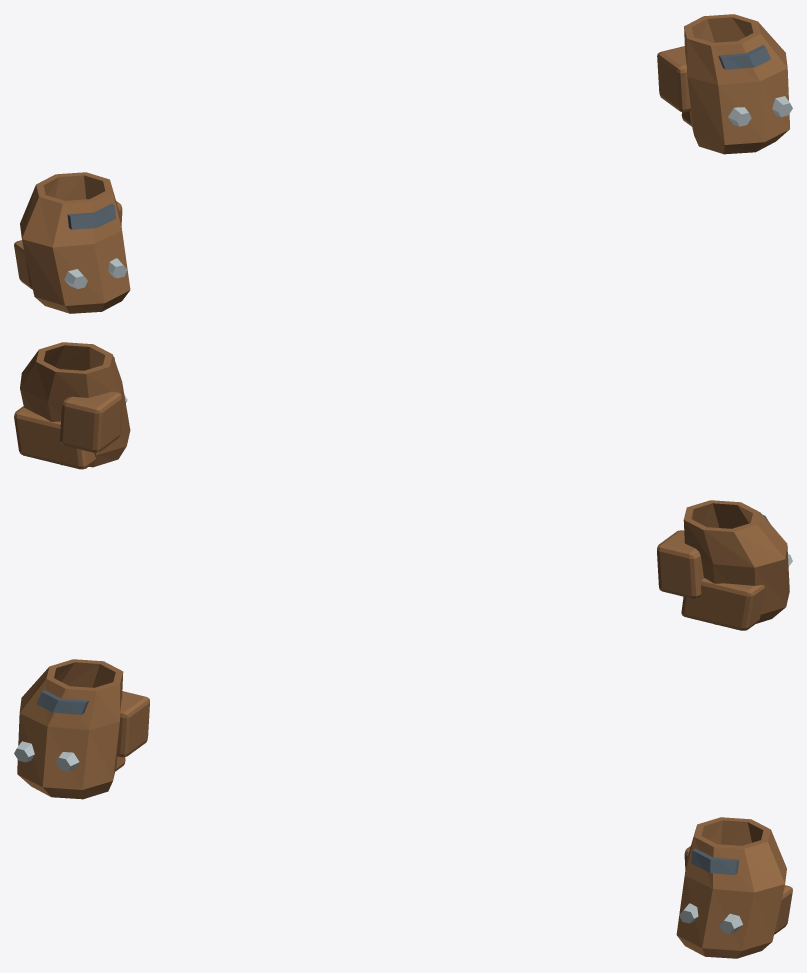
The model's file is studded_hands-female.glb.
The picture shows the model from 3 angles, top to bottom: view 1: azimuth 30°, elevation 25°; view 2: azimuth 150°, elevation 25°; view 3: azimuth 330°, elevation 25°; orthographic projection.
Visible parts, largest first — view 1: Block hand armor -1, Block hand armor 1, Block thumb armor 1, Glove turned wrist seam 1, Glove turned wrist seam -1; view 2: Block hand armor -1, Block hand armor 1, Block thumb armor 1, Block hand curl armor -1, Block hand curl armor 1, Block thumb armor -1; view 3: Block hand armor 1, Block hand armor -1, Block thumb armor -1, Glove turned wrist seam -1, Glove turned wrist seam 1.
Boxes of the visible parts, left/top/right/bottom form: Block hand armor -1: left=20, top=172, right=130, bottom=313; Block hand armor 1: left=684, top=14, right=789, bottom=154; Block thumb armor 1: left=657, top=46, right=690, bottom=112; Glove turned wrist seam 1: left=718, top=45, right=770, bottom=69; Glove turned wrist seam -1: left=67, top=203, right=115, bottom=229; Block hand armor -1: left=683, top=500, right=789, bottom=624; Block hand armor 1: left=20, top=342, right=130, bottom=467; Block thumb armor 1: left=59, top=391, right=122, bottom=452; Block hand curl armor -1: left=681, top=578, right=764, bottom=630; Block hand curl armor 1: left=14, top=406, right=96, bottom=469; Block thumb armor -1: left=657, top=530, right=703, bottom=598; Block hand armor 1: left=676, top=817, right=786, bottom=958; Block hand armor -1: left=17, top=659, right=123, bottom=799; Block thumb armor -1: left=116, top=691, right=149, bottom=757; Glove turned wrist seam -1: left=36, top=690, right=88, bottom=714; Glove turned wrist seam 1: left=691, top=848, right=739, bottom=874.
Bounding box in the file's own units: 3.98 × 0.5018 × 0.5184.
